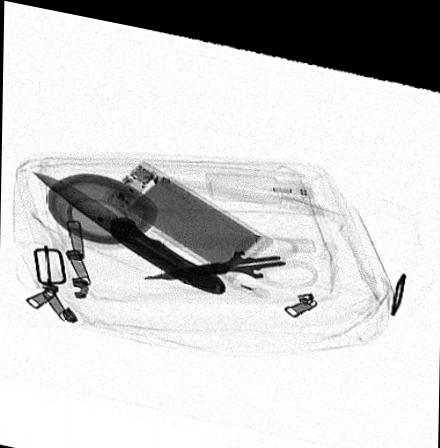Knife: (30, 168, 225, 286)
Powerbank: (100, 152, 273, 281)
Scissors: (138, 226, 321, 277)
